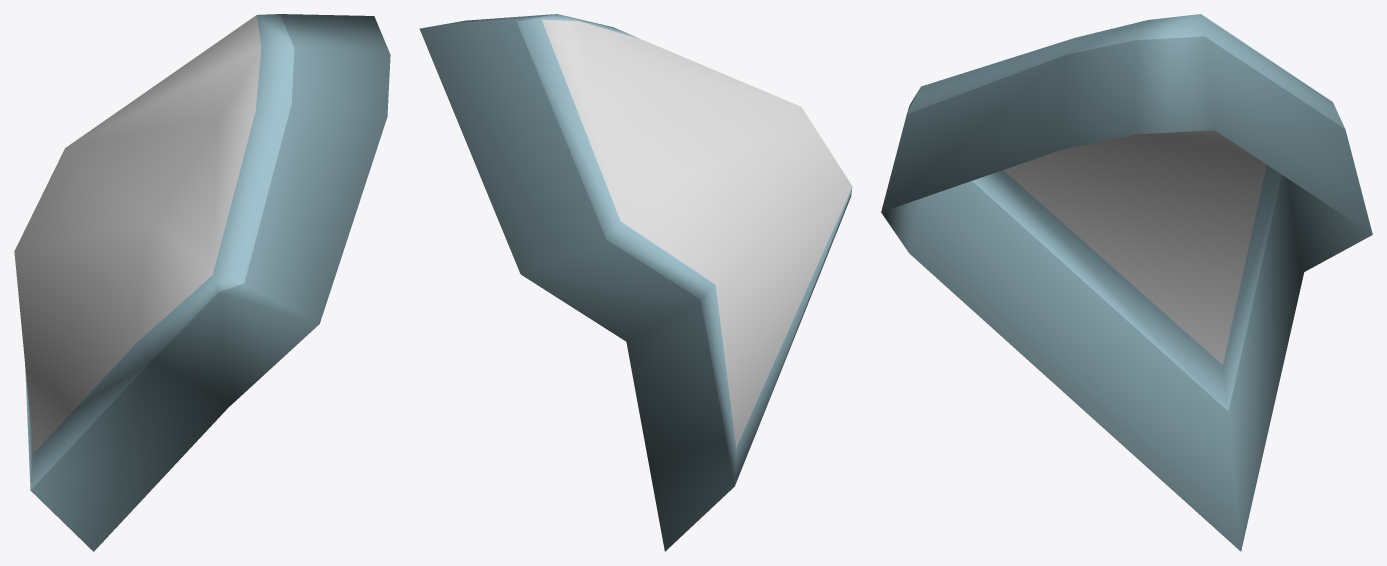
The model's file is LighthouseIceSheetFrontHigh.fbx.
3 views of the same model, side by side, from view 1: azimuth 30°, elevation 25°; view 2: azimuth 150°, elevation 25°; view 3: azimuth 270°, elevation 25° (orthographic). The views are drawn at different scales.
Visible parts, largest first — view 1: LighthouseIceSheetFrontHigh; view 2: LighthouseIceSheetFrontHigh; view 3: LighthouseIceSheetFrontHigh.
Boxes of the visible parts, <box> form: LighthouseIceSheetFrontHigh: <box>14,14,390,551</box>; LighthouseIceSheetFrontHigh: <box>419,14,852,551</box>; LighthouseIceSheetFrontHigh: <box>881,14,1372,551</box>.
Bounding box in the file's own units: 77.96 × 110 × 78.56.
